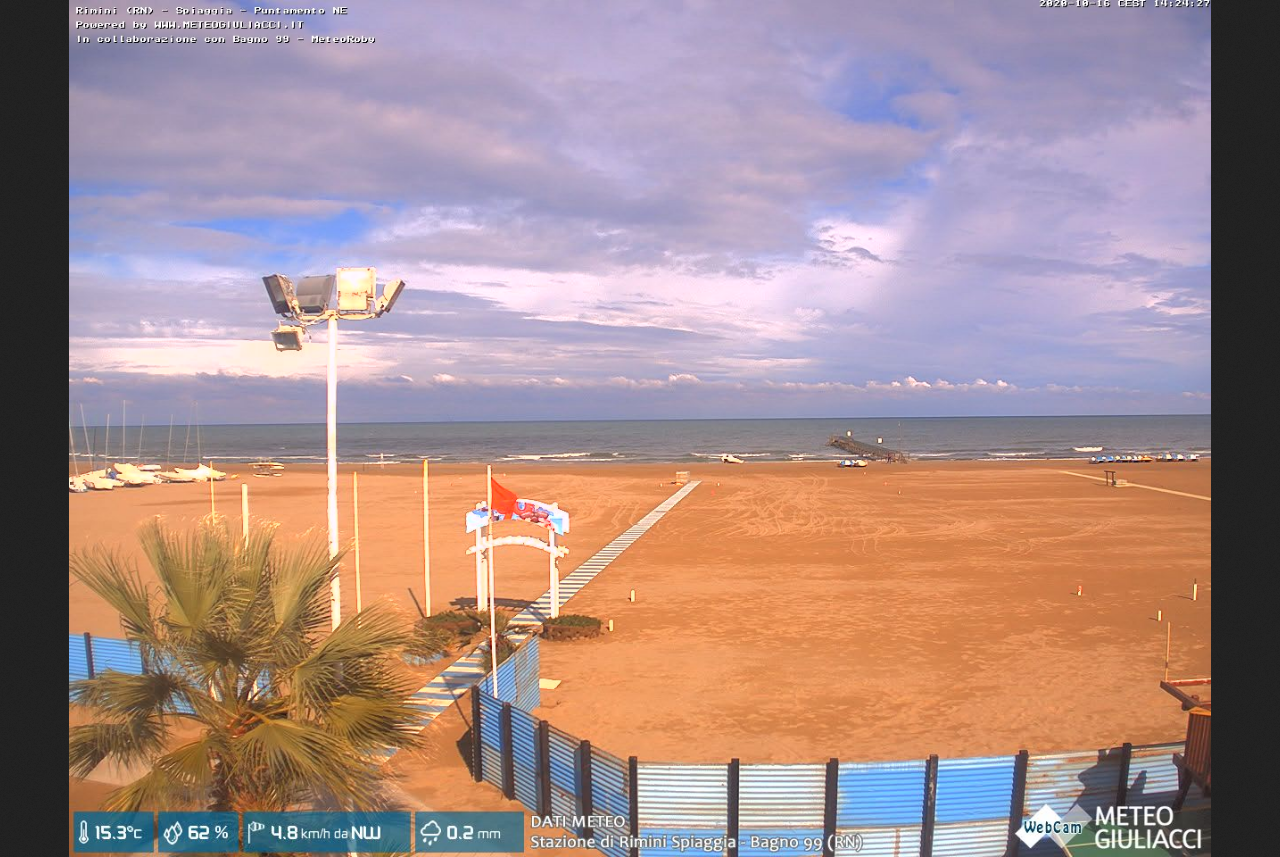maybe: (484, 469, 521, 527)
